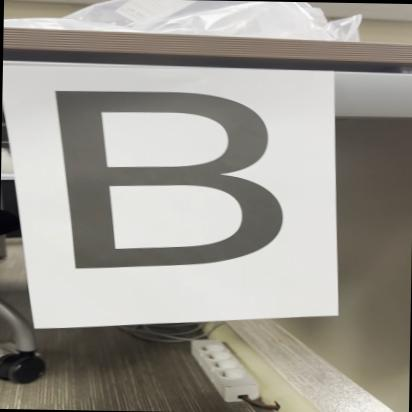seat: (35, 83, 306, 276)
